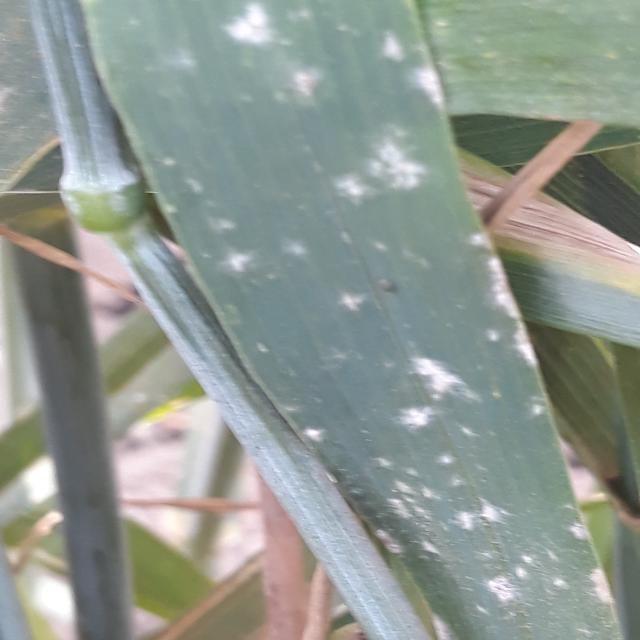powder_mildew: (112, 0, 614, 640)
